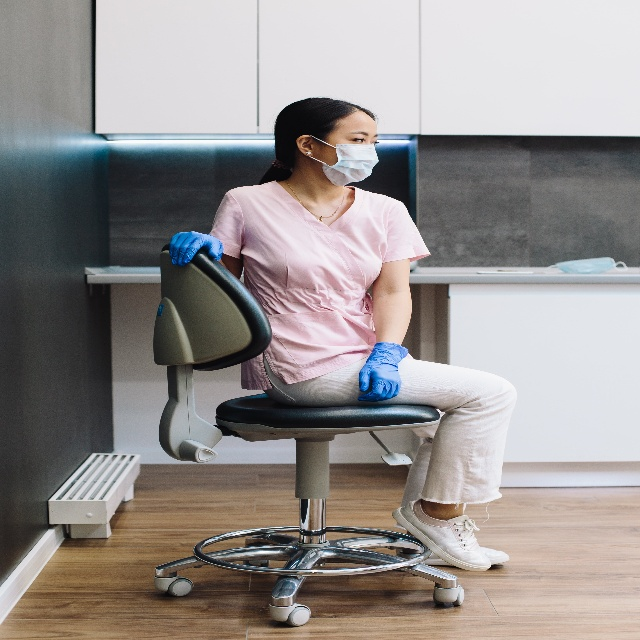Guantes: (357, 342, 408, 402), (169, 231, 224, 267)
Mascara: (307, 133, 379, 186)
